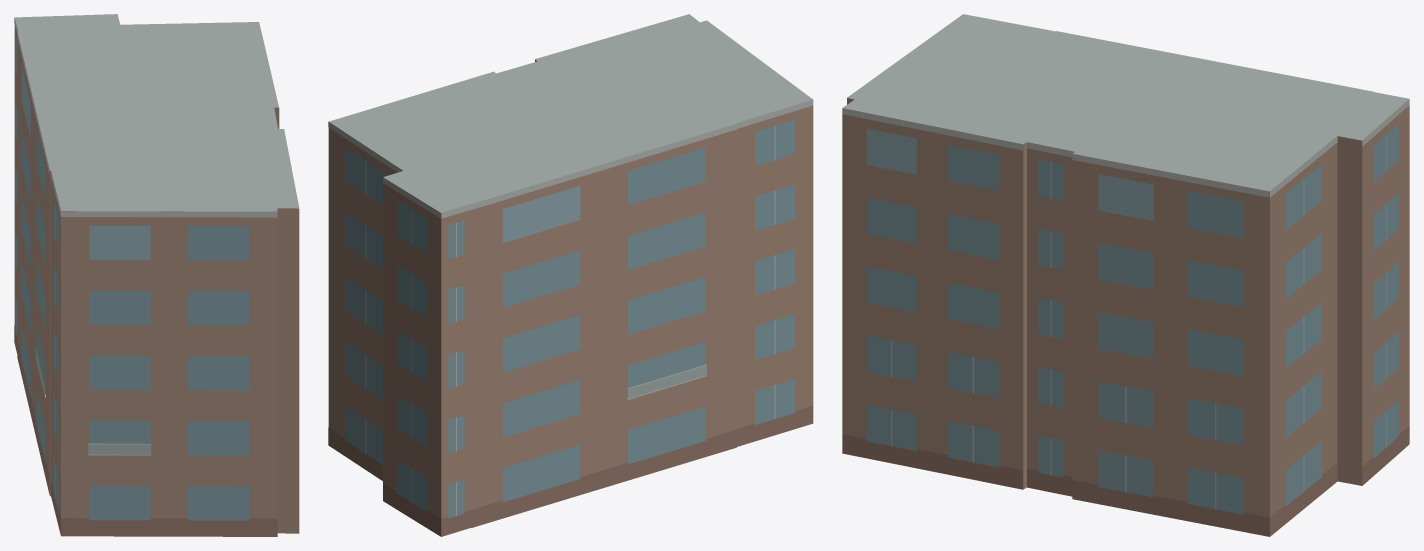
File: survey-upis-32994372.glb
3 views of the same model, side by side, from view 1: azimuth 30°, elevation 25°; view 2: azimuth 150°, elevation 25°; view 3: azimuth 270°, elevation 25° (orthographic). The views are drawn at different scales.
Parts seen in each view (by area): view 1: survey-upis-32994372.tmp; view 2: survey-upis-32994372.tmp; view 3: survey-upis-32994372.tmp.
Boxes of the visible parts, bbox=[...] form: survey-upis-32994372.tmp: bbox=[14, 14, 299, 536]; survey-upis-32994372.tmp: bbox=[328, 14, 813, 536]; survey-upis-32994372.tmp: bbox=[842, 14, 1409, 536].
Bounding box in the file's own units: 14.94 × 13.55 × 20.18.
